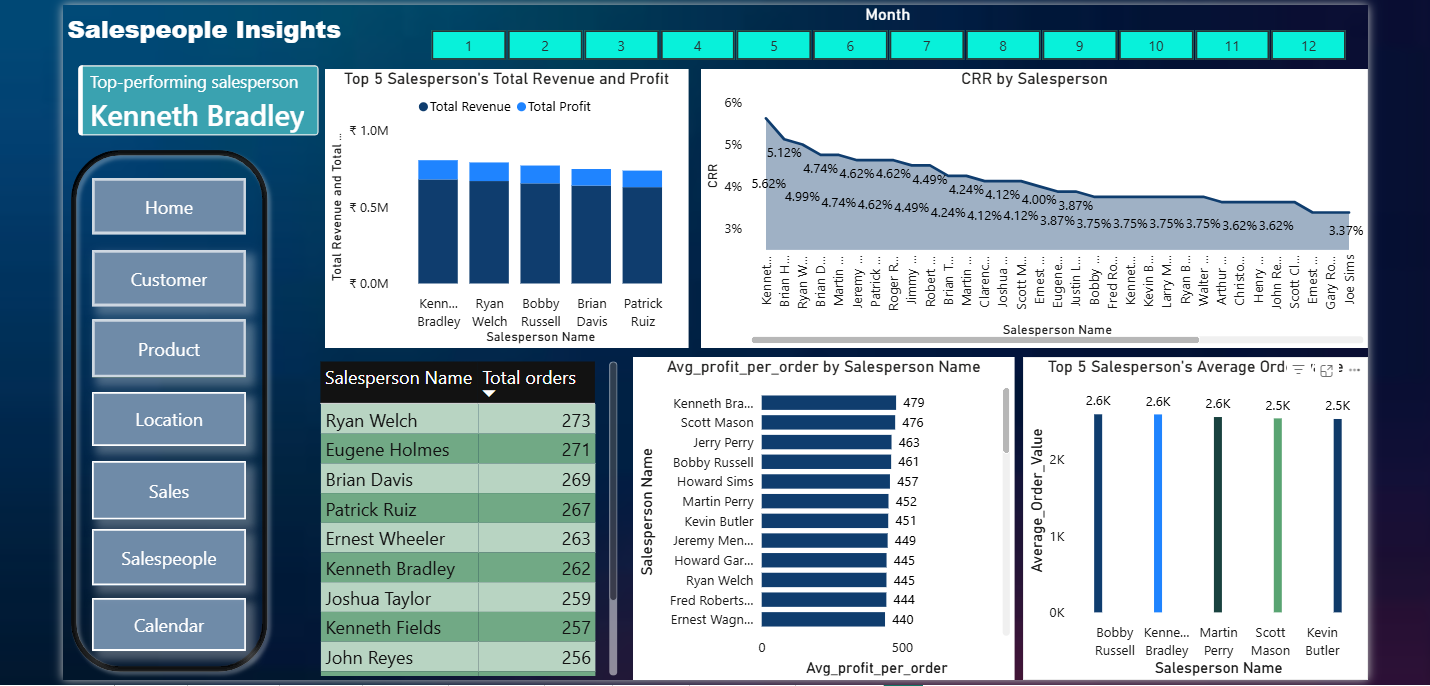

Layout of this report page (visuals, bound fields, positions):
{"tool":"powerbi","page":{"name":"Salespeople ","canvas":[1450,750],"ordinal":7},"visuals":[{"type":"cardVisual","fields":{"Data":["Salespeople_Data.top-performing salesperson"]},"box":[0,50,301.2,112.5],"z":0},{"type":"clusteredColumnChart","title":"Top 5 Salesperson''s Average Order value","fields":{"Y":["Product_Data.Average_Order_Value"],"Category":["Salespeople_Data.Salesperson Name"],"Series":["Salespeople_Data.Salesperson Name"]},"box":[1066.2,391.2,383.8,358.8],"z":1000},{"type":"columnChart","title":"Top 5 Salesperson''s Total Revenue and Profit ","fields":{"Category":["Salespeople_Data.Salesperson Name"],"Y":["Calendar.Total Revenue","Calendar.Total Profit"]},"box":[291.2,71.2,403.8,310],"z":2000},{"type":"tableEx","fields":{"Values":["Salespeople_Data.Salesperson Name","Calendar.Total orders"]},"box":[280,391.2,341.2,358.8],"z":3000},{"type":"shape","box":[0,152.5,236.2,597.5],"z":4000},{"type":"shape","box":[32.5,192.5,171.2,62.5],"z":5000},{"type":"shape","box":[32.5,272.5,171.2,62.5],"z":6000},{"type":"shape","box":[32.5,348.8,171.2,65],"z":7000},{"type":"shape","box":[32.5,430,171.2,60],"z":8000},{"type":"shape","box":[32.5,506.2,171.2,65],"z":9000},{"type":"shape","box":[32.5,658.8,171.2,58.8],"z":10000},{"type":"shape","box":[32.5,582.5,171.2,62.5],"z":11000},{"type":"textbox","box":[0,2.5,321.2,47.5],"z":12000},{"type":"clusteredBarChart","fields":{"Y":["Sales.Avg_profit_per_order"],"Category":["Salespeople_Data.Salesperson Name"]},"box":[633.8,391.2,423.8,358.8],"z":13000},{"type":"stackedAreaChart","title":"CRR by Salesperson","fields":{"Category":["Salespeople_Data.Salesperson Name"],"Y":["Customer_Data.CRR"]},"box":[708.8,71.2,741.2,310],"z":14000},{"type":"slicer","title":"Month","fields":{"Values":["Calendar.MonthOfYear"]},"box":[383.8,0,1066.2,61.2],"z":15000}]}

Visuals, with their boxes in screenshot pixels (x1, y1, x2, y2):
cardVisual - Salespeople_Data.top-performing salesperson: bbox=[60, 45, 331, 146]
"Top 5 Salesperson''s Average Order value" clusteredColumnChart: bbox=[1020, 352, 1366, 676]
"Top 5 Salesperson''s Total Revenue and Profit " columnChart: bbox=[322, 64, 686, 343]
tableEx - Salespeople_Data.Salesperson Name x Calendar.Total orders: bbox=[312, 352, 619, 676]
shape: bbox=[60, 137, 272, 676]
shape: bbox=[89, 173, 243, 230]
shape: bbox=[89, 246, 243, 302]
shape: bbox=[89, 314, 243, 373]
shape: bbox=[89, 387, 243, 441]
shape: bbox=[89, 456, 243, 515]
shape: bbox=[89, 594, 243, 647]
shape: bbox=[89, 525, 243, 581]
textbox: bbox=[60, 2, 349, 45]
clusteredBarChart - Sales.Avg_profit_per_order x Salespeople_Data.Salesperson Name: bbox=[631, 352, 1012, 676]
"CRR by Salesperson" stackedAreaChart: bbox=[698, 64, 1366, 343]
"Month" slicer: bbox=[405, 0, 1366, 55]
